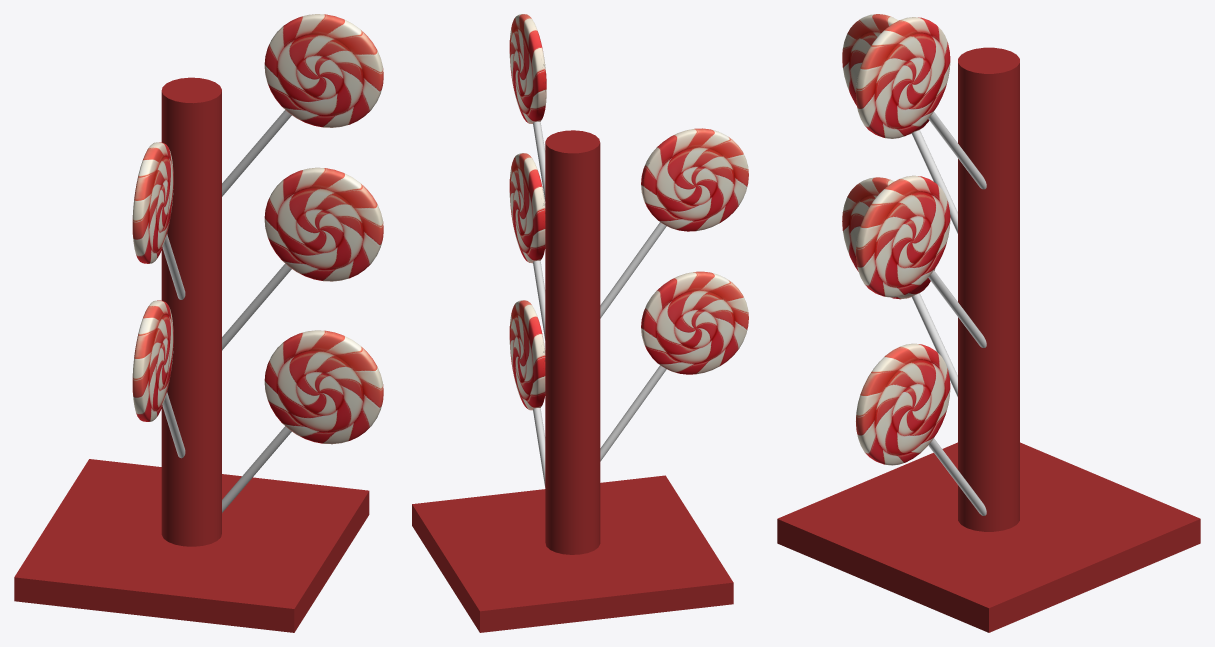
Rendered from 5lollipop.fbx.
3 renders of one model, left to right at view 1: azimuth 30°, elevation 25°; view 2: azimuth 150°, elevation 25°; view 3: azimuth 270°, elevation 25°, orthographic. The views are drawn at different scales.
Parts seen in each view (by area): view 1: lollipopStand, lollipop5, lollipop, lollipop2, lollipop4, lollipop3; view 2: lollipopStand, lollipop3, lollipop4, lollipop, lollipop2, lollipop5; view 3: lollipopStand, lollipop2, lollipop5, lollipop, lollipop4, lollipop3.
Part boxes in pixels (x1,y1,x2,y2): lollipopStand: (14,77,369,632); lollipop5: (222,167,383,350); lollipop: (222,14,383,196); lollipop2: (222,330,383,512); lollipop4: (132,300,185,458); lollipop3: (132,142,185,299); lollipopStand: (412,130,733,632); lollipop3: (600,128,748,318); lollipop4: (600,271,748,461); lollipop: (509,14,546,201); lollipop2: (509,300,545,487); lollipop5: (509,153,545,340); lollipopStand: (777,47,1200,632); lollipop2: (856,343,986,515); lollipop5: (856,175,986,347); lollipop: (856,17,986,189); lollipop4: (842,177,957,396); lollipop3: (842,14,957,233).
Size of the model in its own units: 4.06 by 6.02 by 4.06.
Materials: 3 (1 with a texture image).
